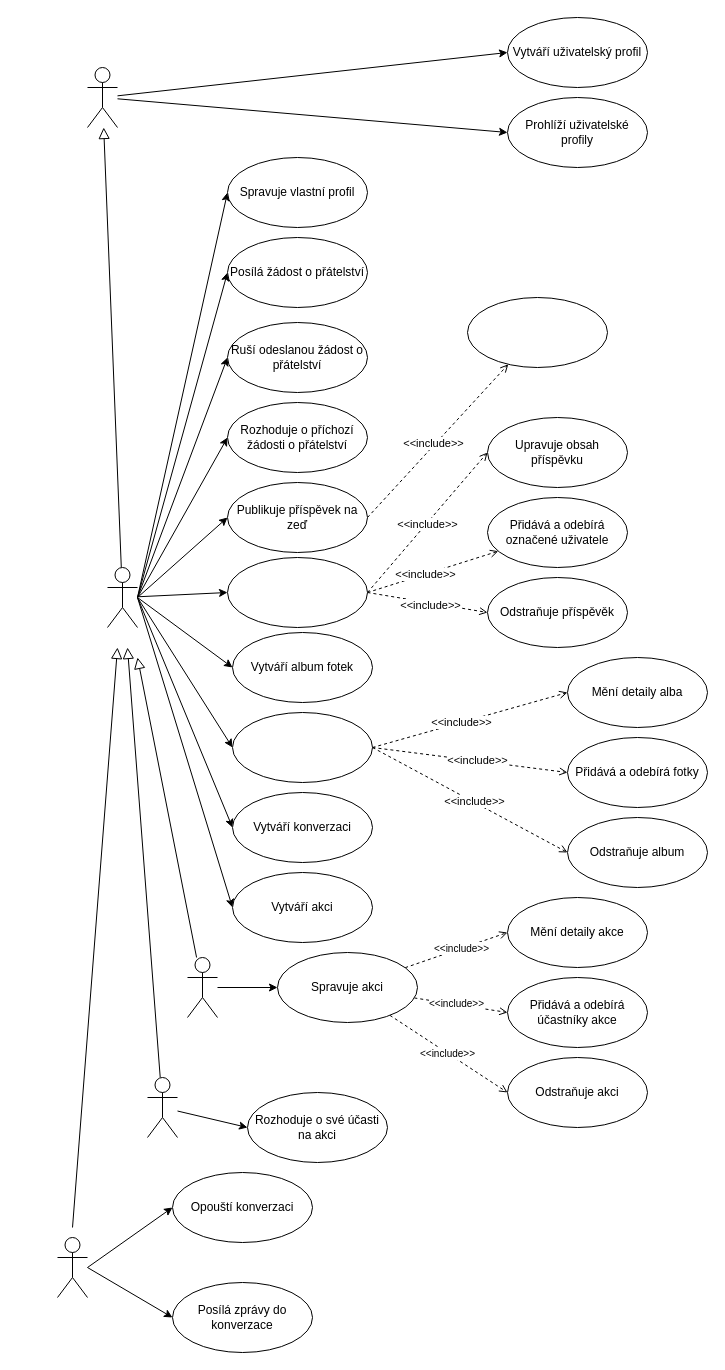
The diagram is 725 pixels wide and 1370 high, and some of its shapes have lost their labels. Here are the shapes that lost their labels. From the top down, the centre of each, then its label:
[102,97]: Anonymní uživatel
[537,332]: Označuje uživatele
[122,597]: Uživatel
[297,592]: Upravuje příspěvek
[302,747]: Spravuje své album fotek
[202,987]: Správce akce
[162,1107]: Účastník akce
[72,1267]: Účastník konverzace
